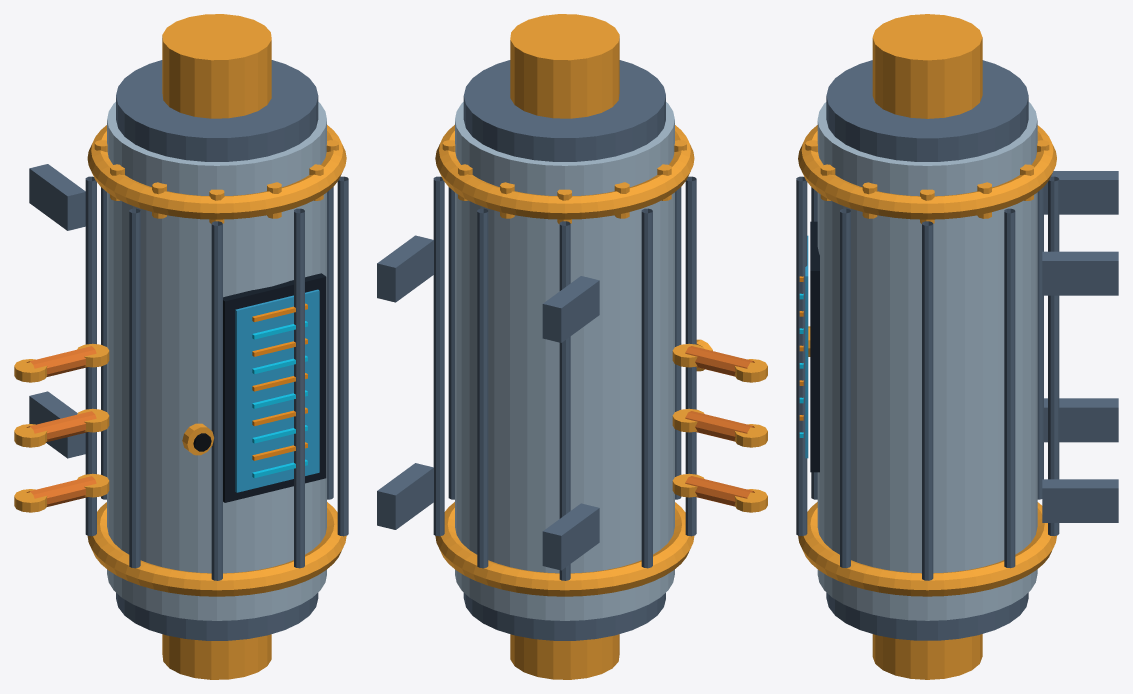
Rendered from 31_L88_OxygenGasSeparator.fbx.
The picture shows the model from 3 angles, left to right: view 1: azimuth 30°, elevation 25°; view 2: azimuth 150°, elevation 25°; view 3: azimuth 270°, elevation 25°; orthographic projection.
Parts seen in each view (by area): view 1: L87_OxygenGasSeparator_Part_0000, L87_OxygenGasSeparator_Part_0001, L87_OxygenGasSeparator_Part_0002, L87_OxygenGasSeparator_Part_0005, L87_OxygenGasSeparator_Part_0004, L87_OxygenGasSeparator_Part_0008, L87_OxygenGasSeparator_Part_0007, L87_OxygenGasSeparator_Part_0006, L87_OxygenGasSeparator_Part_0003, L87_OxygenGasSeparator_Part_0009; view 2: L87_OxygenGasSeparator_Part_0000, L87_OxygenGasSeparator_Part_0001, L87_OxygenGasSeparator_Part_0002, L87_OxygenGasSeparator_Part_0008, L87_OxygenGasSeparator_Part_0003; view 3: L87_OxygenGasSeparator_Part_0000, L87_OxygenGasSeparator_Part_0001, L87_OxygenGasSeparator_Part_0002, L87_OxygenGasSeparator_Part_0004, L87_OxygenGasSeparator_Part_0005.
Part boxes in pixels (x1,y1,x2,y2): L87_OxygenGasSeparator_Part_0000: (107, 102, 326, 620); L87_OxygenGasSeparator_Part_0001: (29, 60, 348, 640); L87_OxygenGasSeparator_Part_0002: (14, 14, 346, 679); L87_OxygenGasSeparator_Part_0005: (235, 289, 319, 492); L87_OxygenGasSeparator_Part_0004: (223, 273, 326, 502); L87_OxygenGasSeparator_Part_0008: (26, 346, 96, 507); L87_OxygenGasSeparator_Part_0007: (252, 303, 307, 460); L87_OxygenGasSeparator_Part_0006: (252, 321, 307, 478); L87_OxygenGasSeparator_Part_0003: (14, 343, 109, 382); L87_OxygenGasSeparator_Part_0009: (182, 423, 213, 455); L87_OxygenGasSeparator_Part_0000: (455, 102, 674, 620); L87_OxygenGasSeparator_Part_0001: (377, 60, 696, 640); L87_OxygenGasSeparator_Part_0002: (435, 14, 767, 679); L87_OxygenGasSeparator_Part_0008: (685, 346, 754, 506); L87_OxygenGasSeparator_Part_0003: (672, 343, 767, 382); L87_OxygenGasSeparator_Part_0000: (817, 102, 1037, 620); L87_OxygenGasSeparator_Part_0001: (796, 60, 1118, 640); L87_OxygenGasSeparator_Part_0002: (798, 14, 1056, 679); L87_OxygenGasSeparator_Part_0004: (810, 221, 819, 472); L87_OxygenGasSeparator_Part_0005: (805, 235, 808, 458).
Size of the model in its own units: 153 by 286 by 135.
